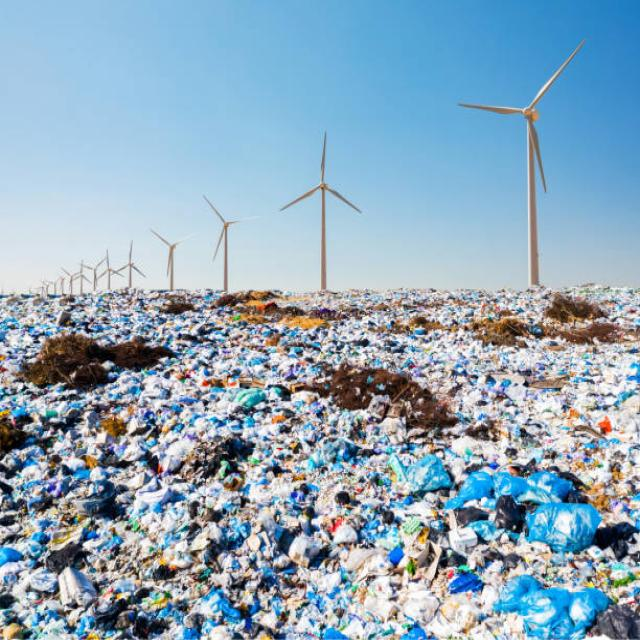trash: (26, 302, 622, 612)
